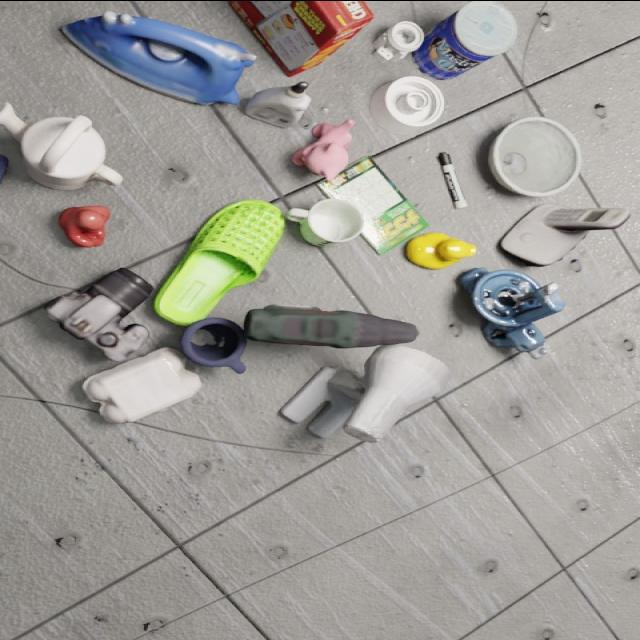Other Objects: (61, 11, 256, 103), (316, 156, 428, 253), (1, 102, 123, 188), (47, 267, 153, 360), (460, 267, 565, 353), (413, 0, 517, 78), (500, 203, 631, 264), (488, 115, 581, 196), (372, 75, 444, 128), (293, 119, 355, 178), (181, 316, 247, 371), (287, 197, 364, 244), (241, 80, 311, 127), (405, 231, 477, 268), (60, 204, 111, 246), (376, 21, 424, 58), (439, 151, 467, 206)
